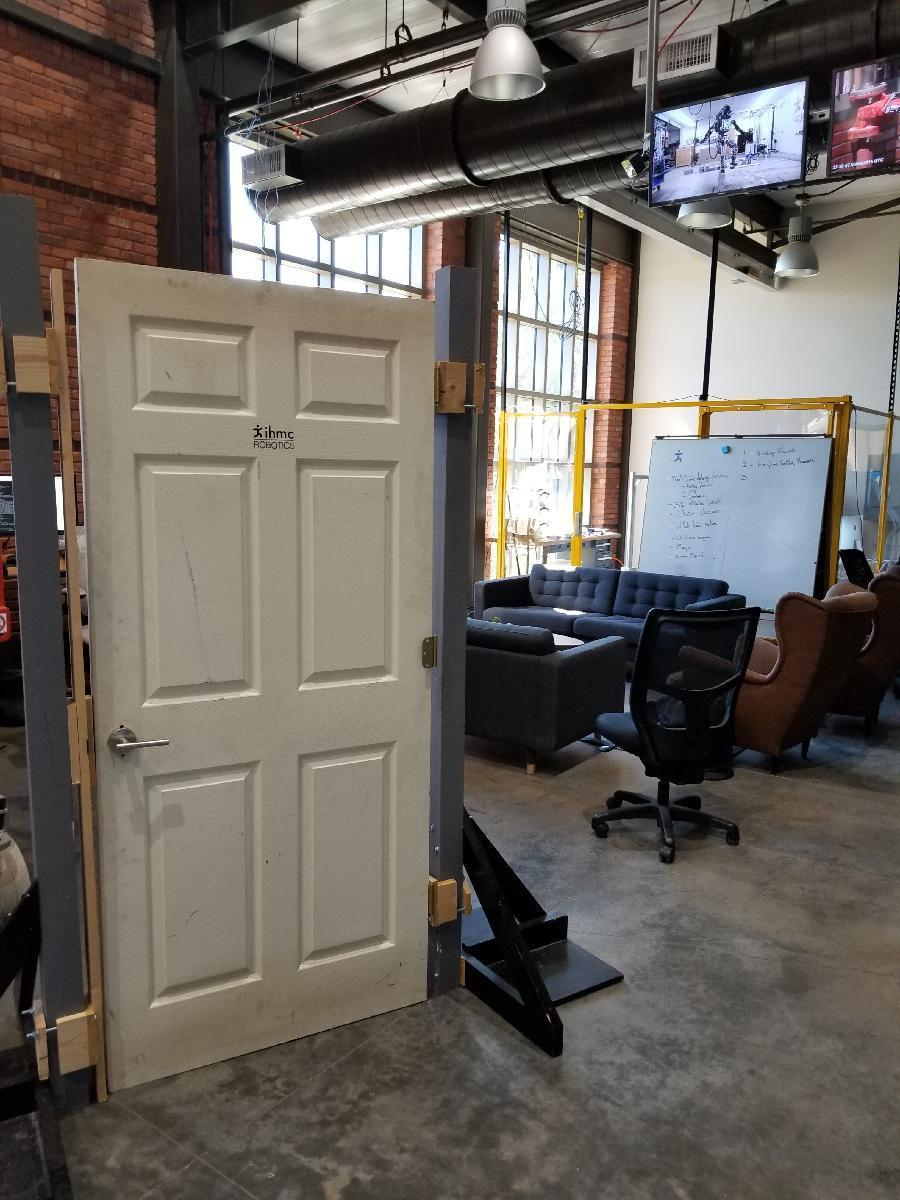door: (86, 263, 426, 1051)
handle: (104, 724, 171, 761)
